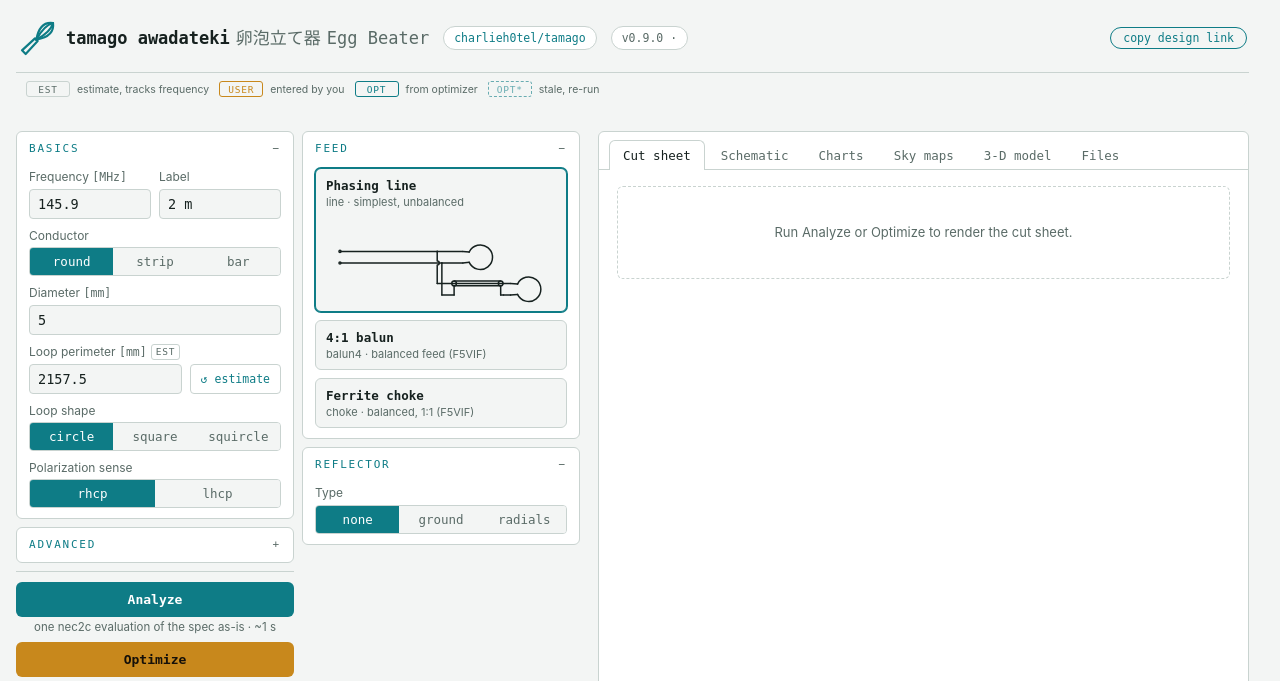
Test: analyze flow › renders the cut sheet and an analyzed-not-tuned status
Click the button "Analyze": (155, 600) left=16, top=582, right=294, bottom=617
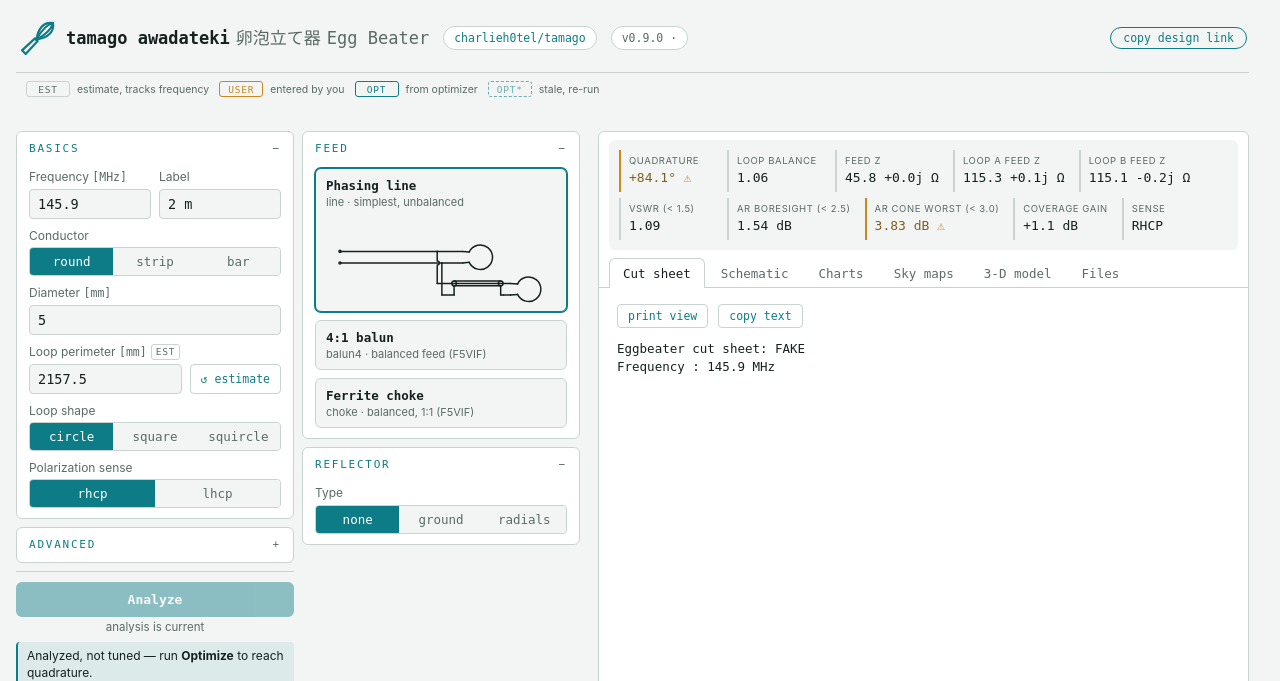
Now the text with class "cut" shows "Eggbeater cut sheet: FAKE", box left=617, top=340, right=805, bottom=374
